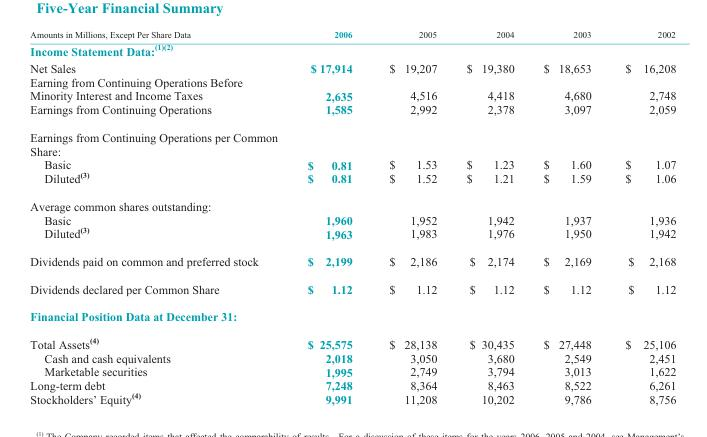table: (29, 28, 675, 405)
table column: (29, 28, 282, 405), (282, 28, 370, 405), (370, 28, 451, 405), (528, 28, 607, 405), (451, 28, 528, 405), (607, 28, 675, 405)
table column header: (29, 28, 675, 40)
table projected row header: (29, 123, 675, 157), (29, 302, 675, 329), (29, 192, 675, 212), (29, 40, 675, 59)
table row: (29, 123, 675, 157), (29, 74, 675, 102), (29, 274, 675, 302), (29, 247, 675, 274), (29, 302, 675, 329), (29, 170, 675, 192), (29, 225, 675, 247), (29, 102, 675, 123), (29, 329, 675, 350), (29, 192, 675, 212), (29, 40, 675, 59), (29, 59, 675, 74), (29, 350, 675, 364), (29, 364, 675, 378), (29, 391, 675, 405), (29, 157, 675, 170), (29, 212, 675, 225), (29, 378, 675, 391), (29, 28, 675, 40)
